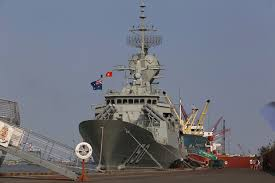tau_muctieu: (81, 46, 199, 170)
